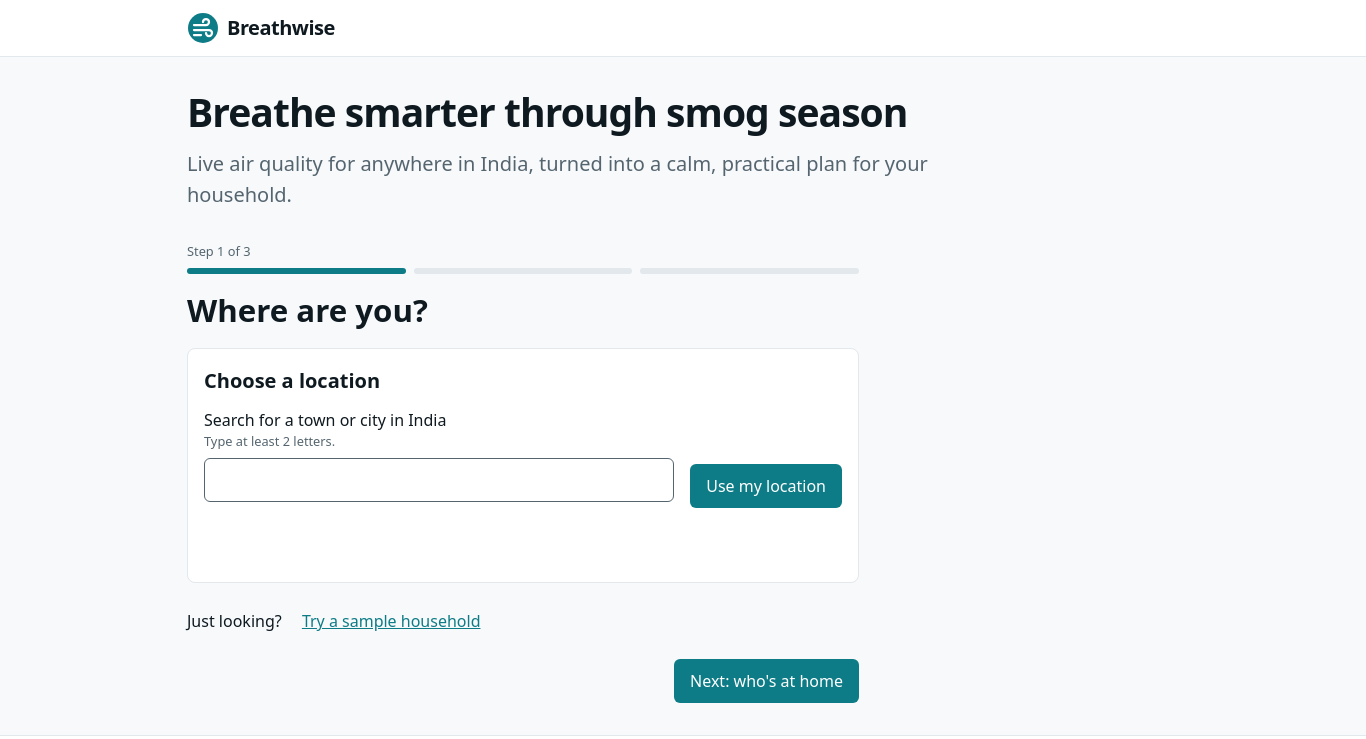
Test: sample households › loads S1 as a profile and location only
Click the button "Try a sample household" at (391, 621), box [286,599,496,643]
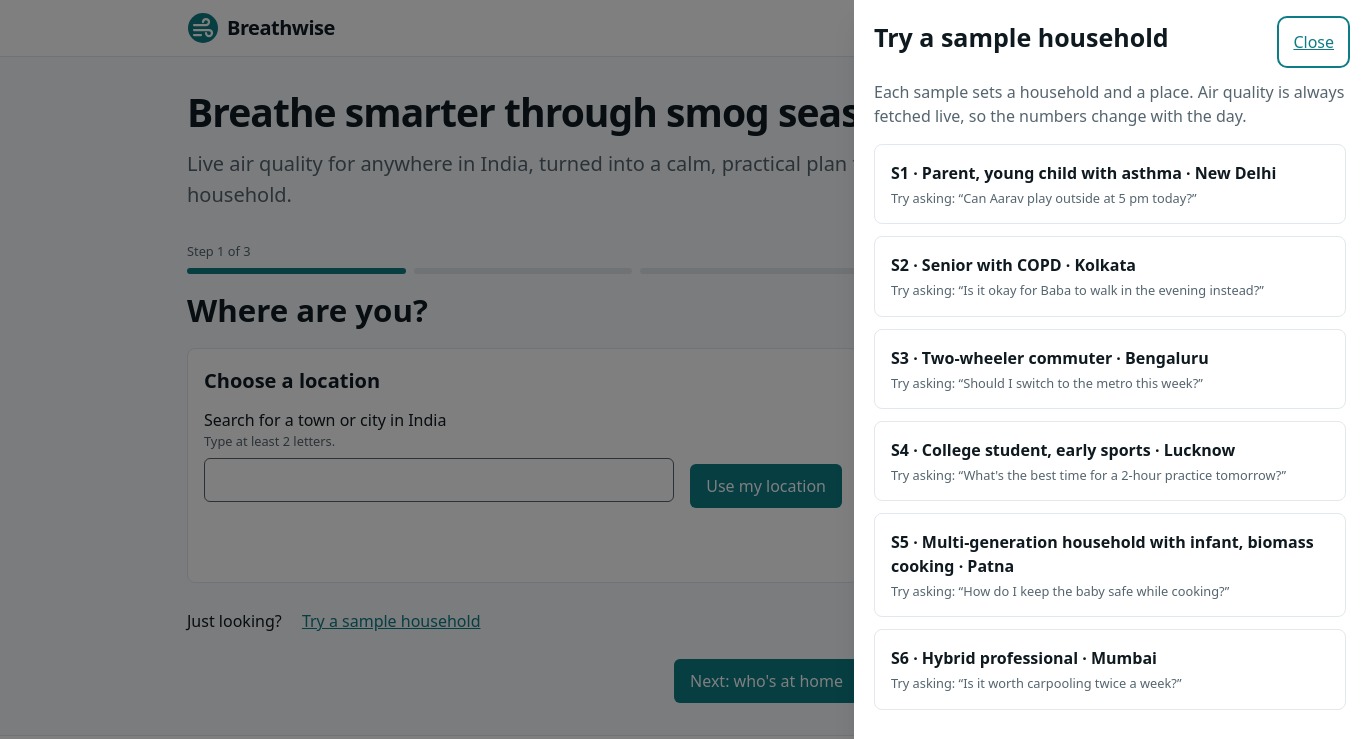
Click the 2nd button at (1110, 184), box [874,144,1346,224]
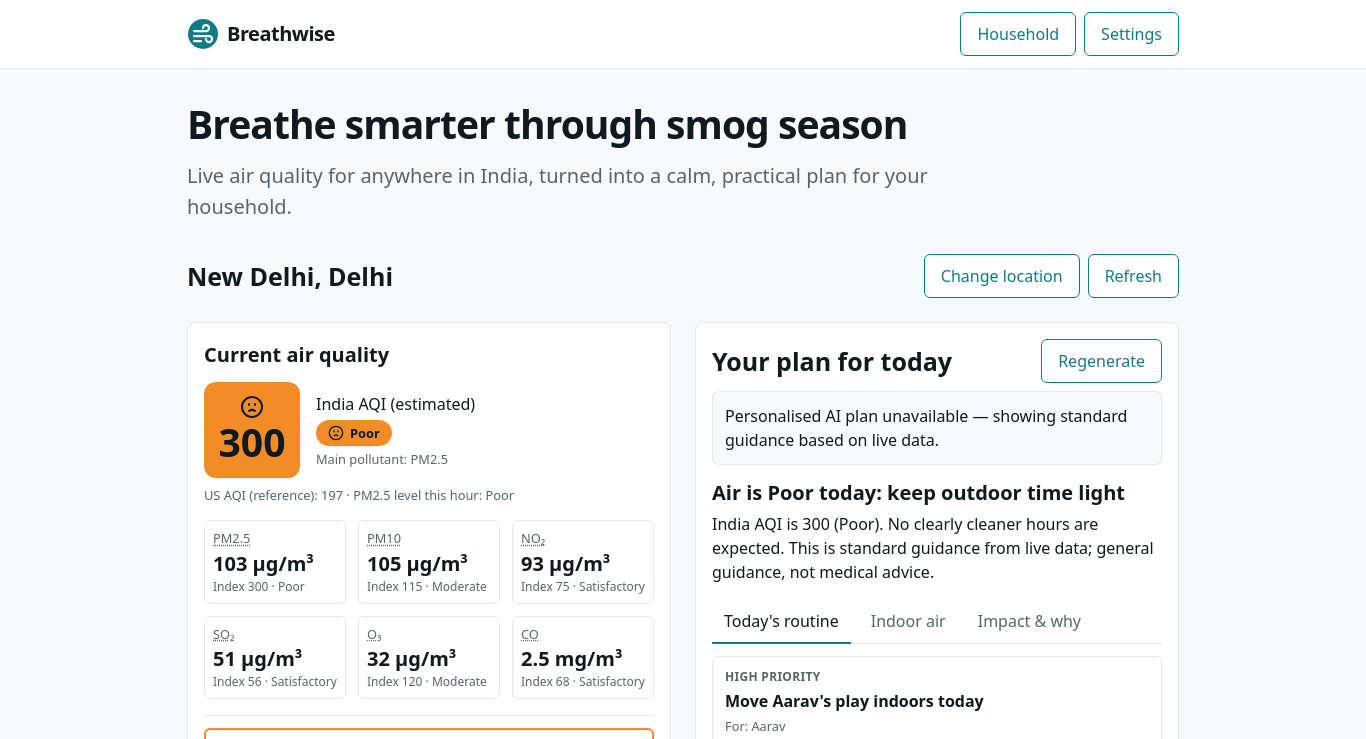
Check: the heading "New Delhi, Delhi" is shown, box [187,259,393,294]
